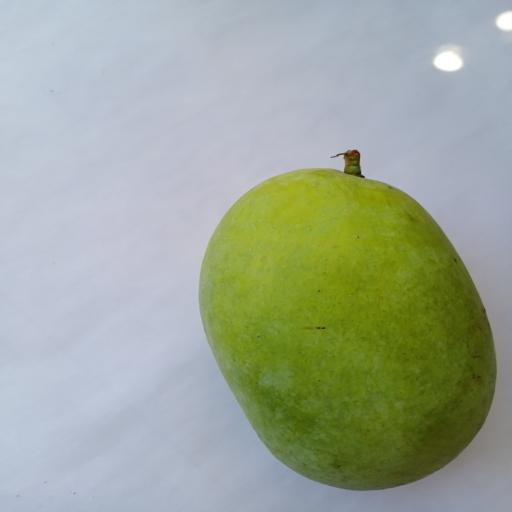mango-unripe: (167, 153, 512, 495)
